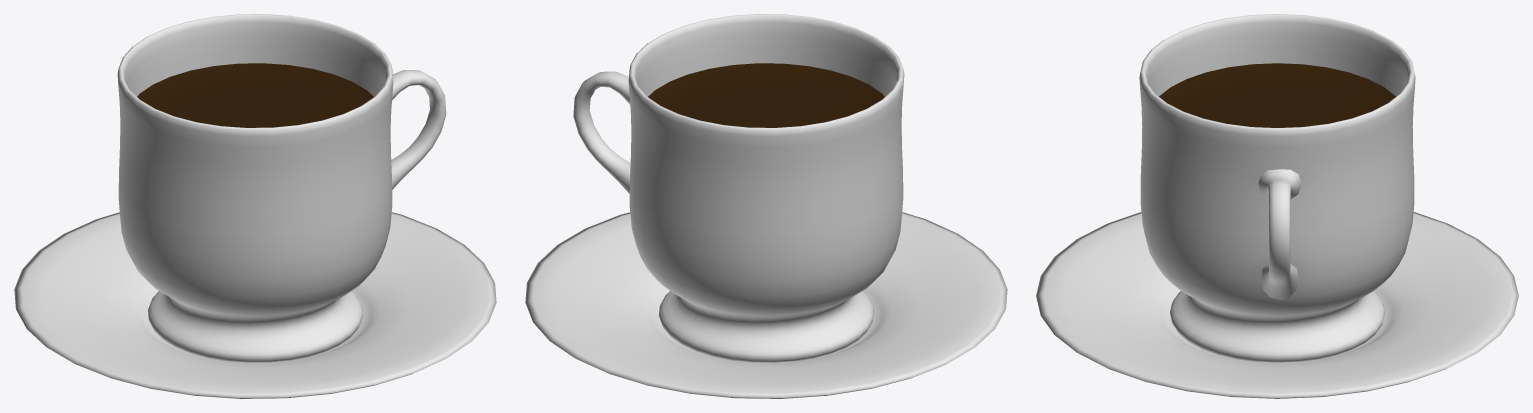
File: Cup.glb
3 renders of one model, left to right at view 1: azimuth 30°, elevation 25°; view 2: azimuth 150°, elevation 25°; view 3: azimuth 270°, elevation 25°, orthographic.
Visible parts, largest first — view 1: Cup, Saucer, Coffee; view 2: Cup, Saucer, Coffee; view 3: Cup, Saucer, Coffee.
Boxes of the visible parts, bbox=[...] form: Cup: bbox=[117, 14, 446, 362]; Saucer: bbox=[14, 212, 496, 398]; Coffee: bbox=[137, 63, 373, 127]; Cup: bbox=[573, 14, 904, 362]; Saucer: bbox=[525, 212, 1007, 398]; Coffee: bbox=[648, 63, 884, 127]; Cup: bbox=[1139, 14, 1415, 362]; Saucer: bbox=[1036, 212, 1518, 398]; Coffee: bbox=[1159, 63, 1395, 127].
Size of the model in its own units: 3.56 by 2.12 by 3.56.
1 material, 1 textured.
